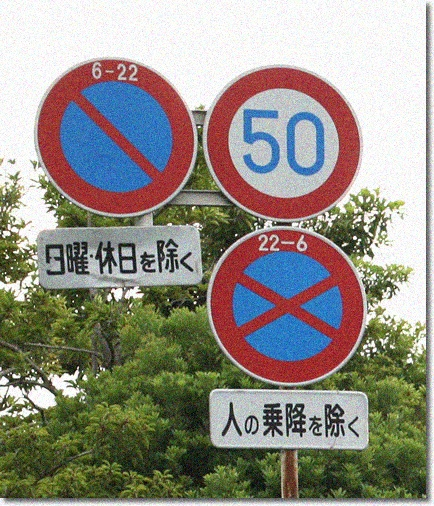Prohibition_sign: (198, 227, 383, 394), (38, 53, 189, 204)
